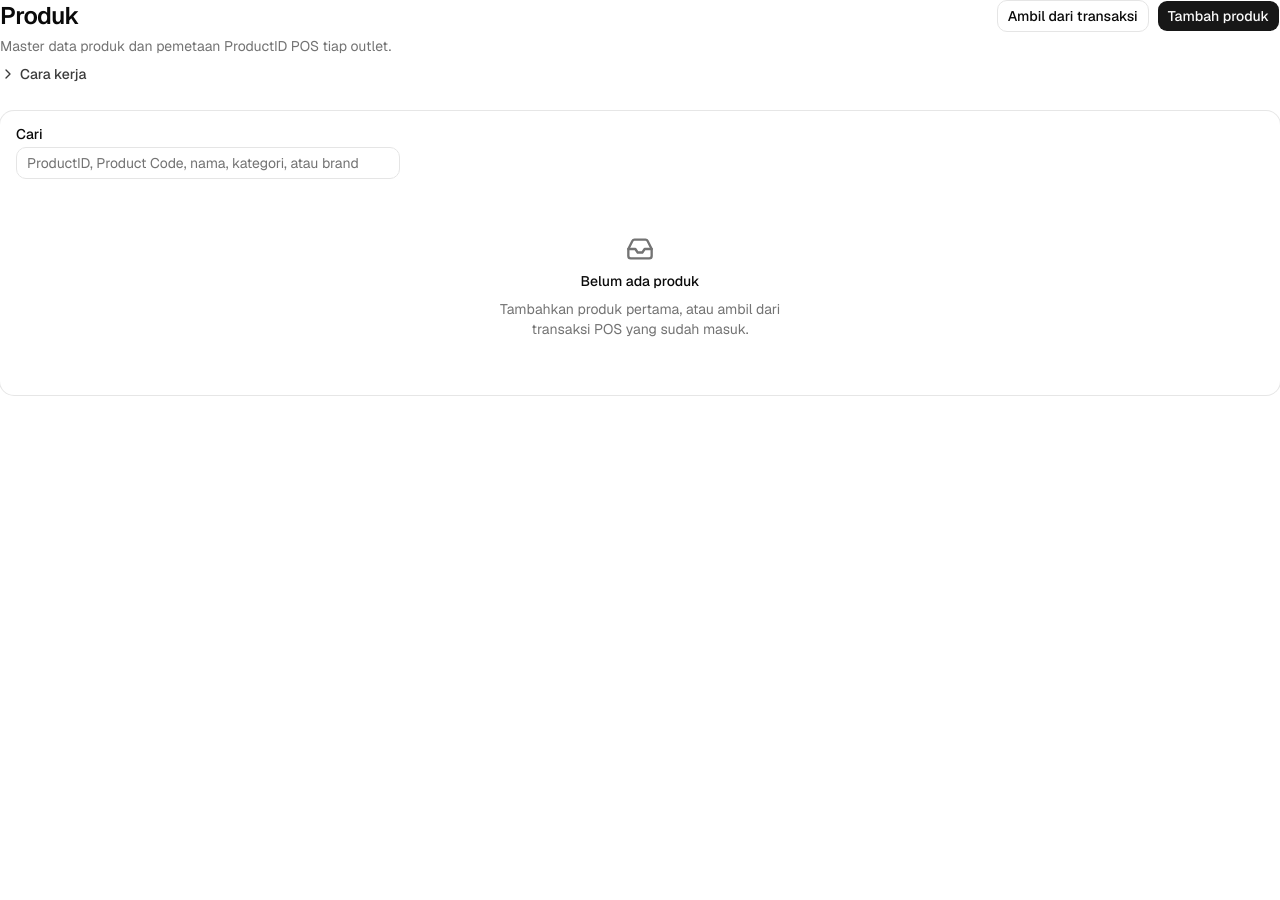
ProductImportDialog › menampilkan alasan item yang dilewati
The image size is (1280, 900).
Click the button "Ambil dari transaksi".
click(1073, 16)  # box [997,0,1149,32]
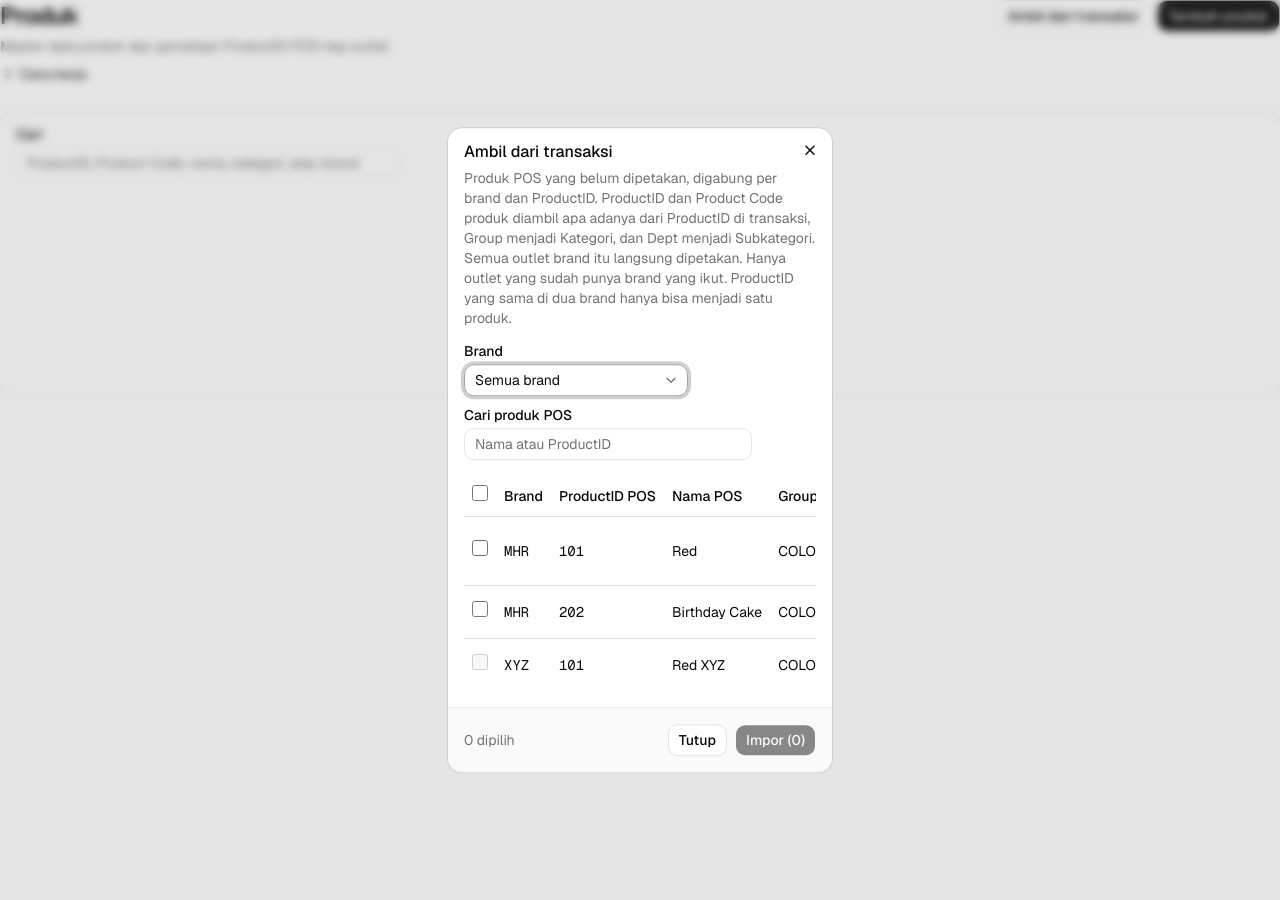
Now the text "Birthday Cake" is shown, box [664,585,770,638]
Click the checkbox named "Pilih MHR ProductID 101".
click(480, 548)  # box [472,540,488,556]
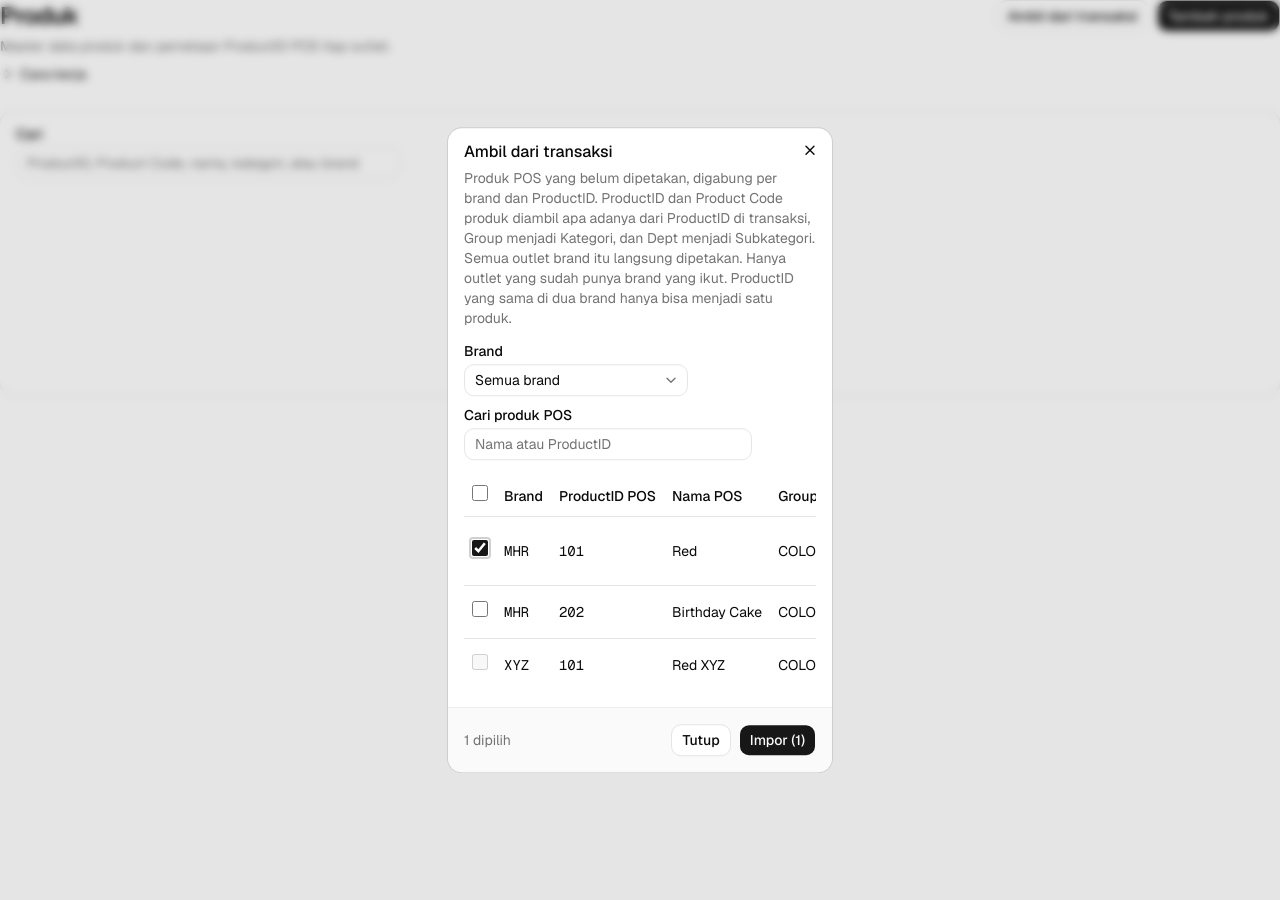
Click the button "Impor (1)".
click(777, 740)  # box [739,724,816,756]
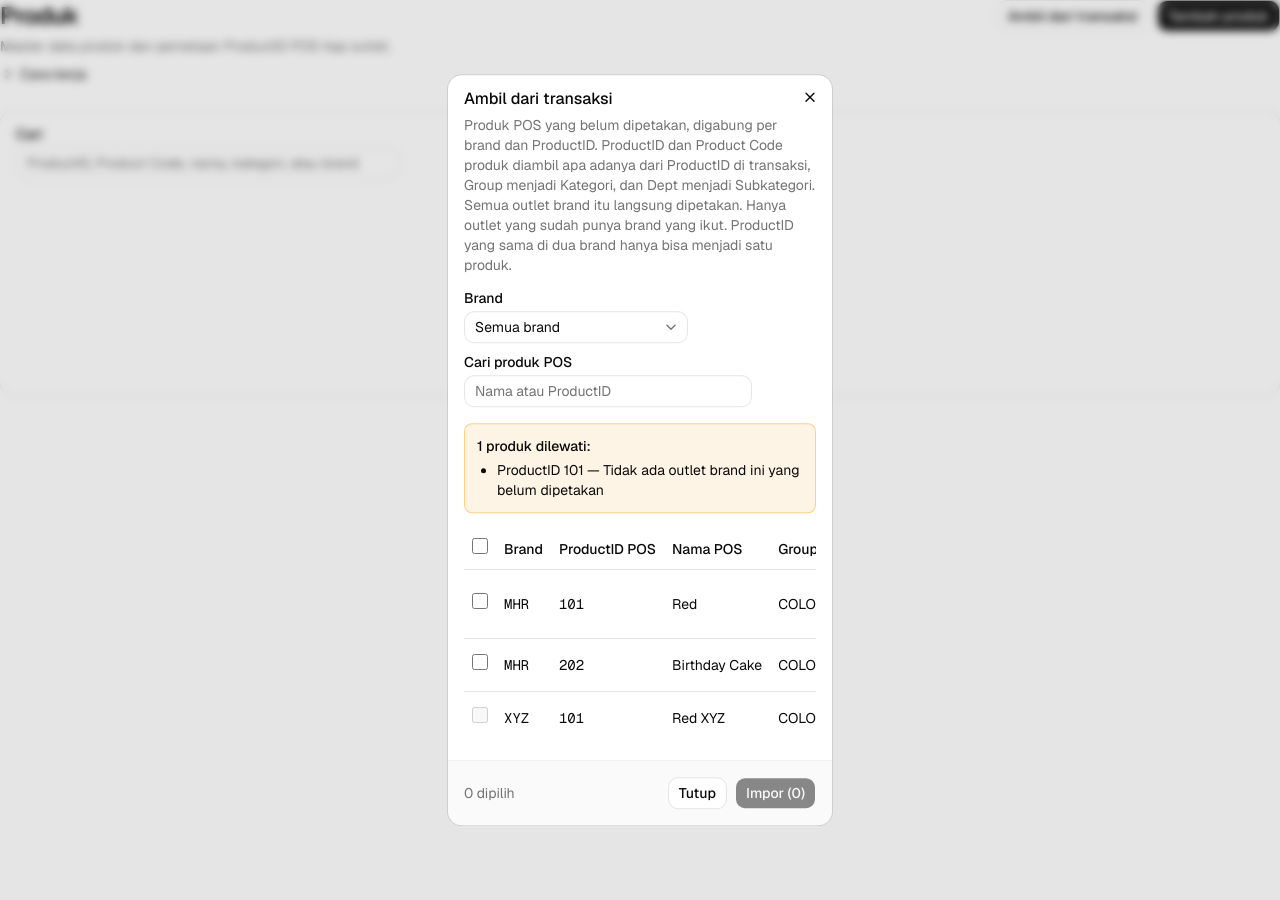
Now the list item "ProductID 101 — Tidak ada outlet brand ini yang belum dipetakan" is shown, box [497,460,803,500]
